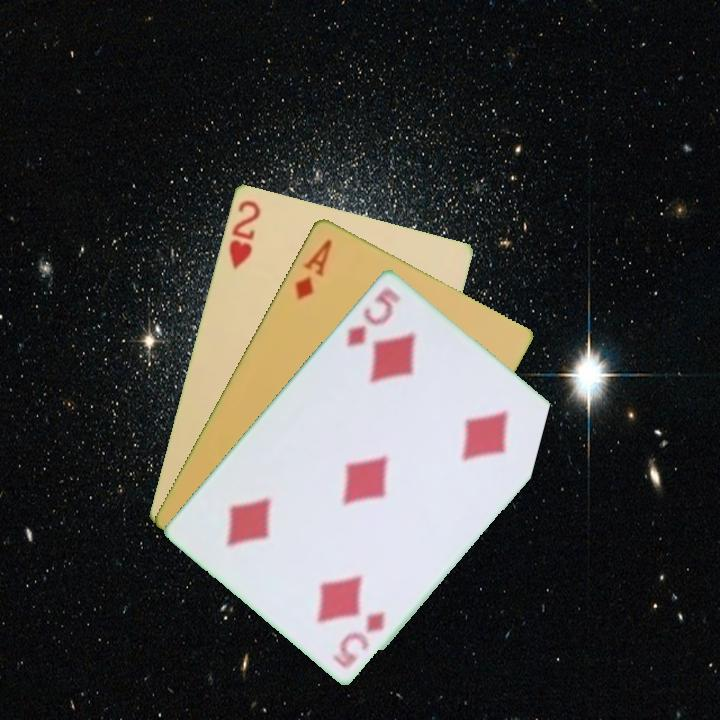2h: (225, 196, 263, 273)
5d: (342, 283, 404, 349), (329, 607, 388, 671)
Ad: (291, 235, 335, 302)
